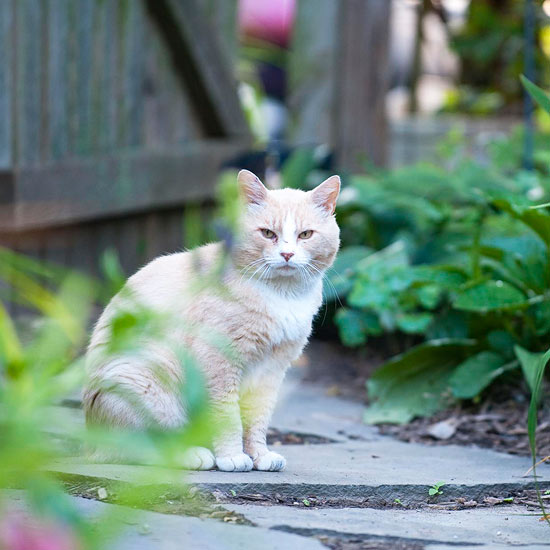cat: (54, 170, 341, 463)
